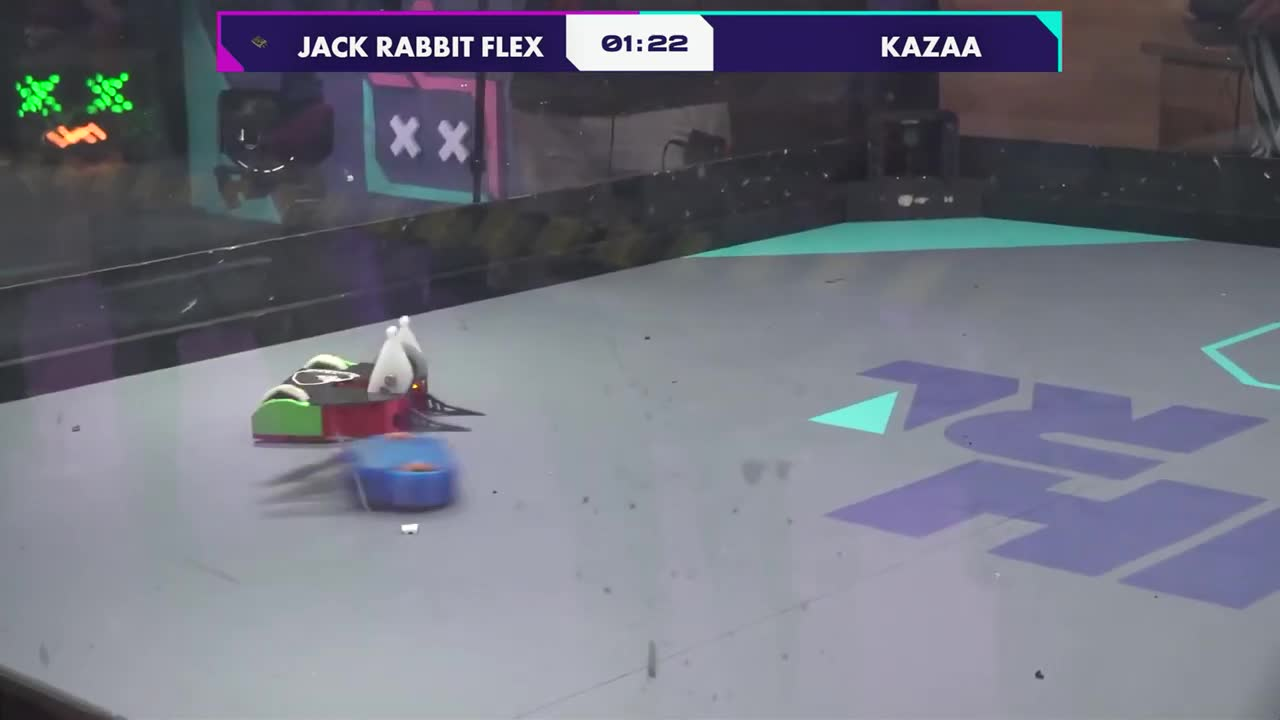combatbot: (249, 353, 436, 443)
minibot: (254, 433, 453, 514)
